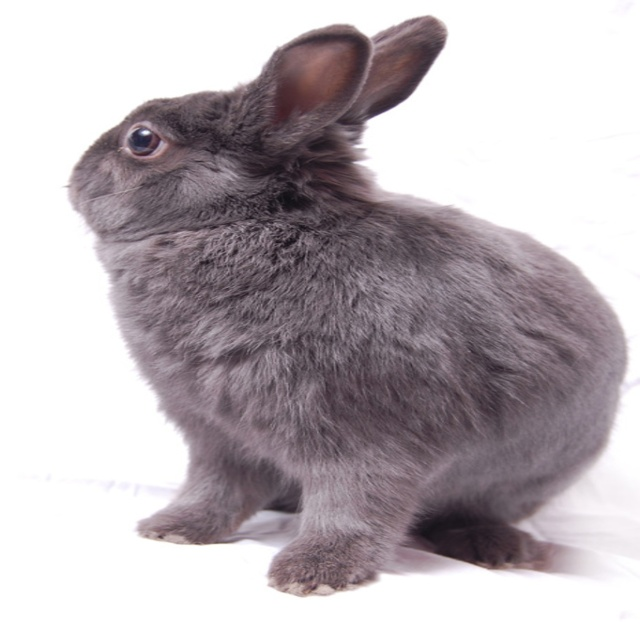Rabbit: (65, 14, 624, 601)
